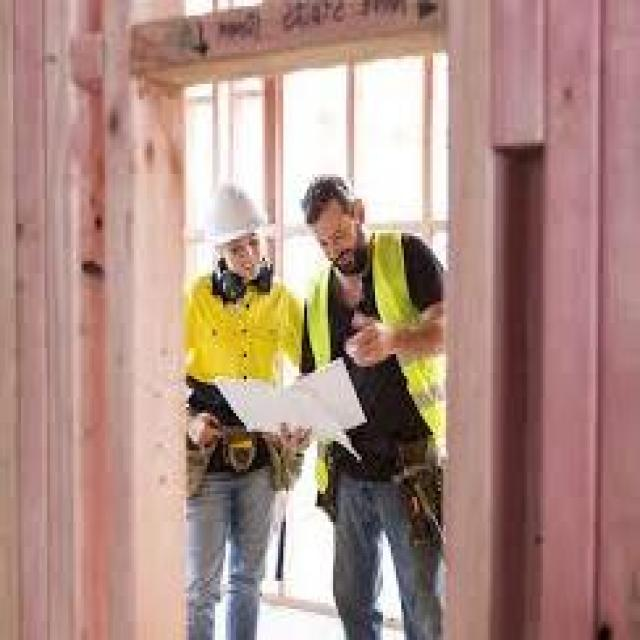Reflective-Jacket: (304, 233, 467, 457), (168, 267, 312, 451)
Safety-Helmet: (194, 171, 273, 258)
